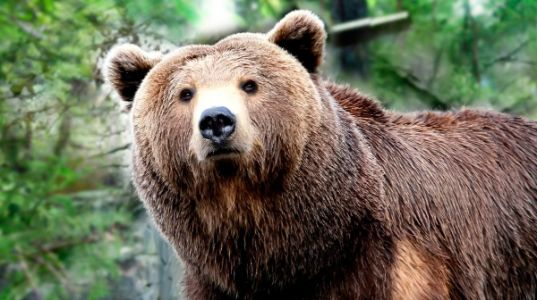bear: (102, 12, 529, 293)
